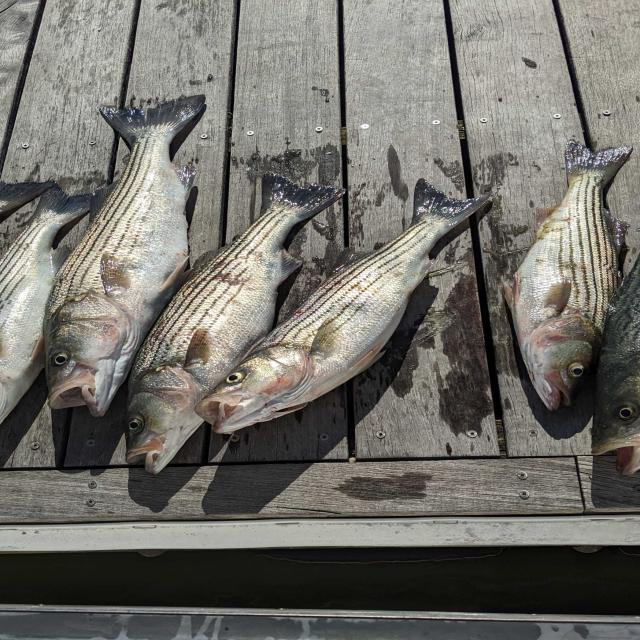Perch - White: (197, 179, 488, 434), (127, 174, 345, 474), (44, 95, 205, 416), (505, 141, 632, 410)
